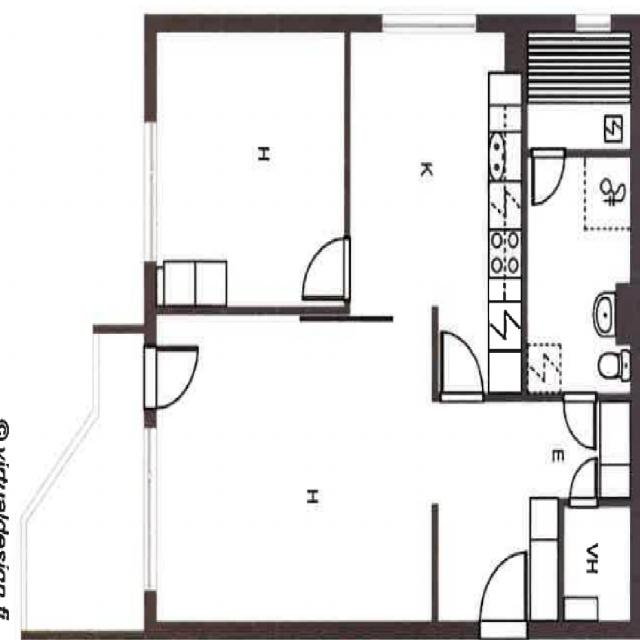door: (481, 553, 527, 638), (146, 346, 198, 408), (442, 332, 482, 401), (304, 238, 350, 298), (564, 393, 596, 448), (532, 150, 564, 205), (571, 458, 597, 506)
